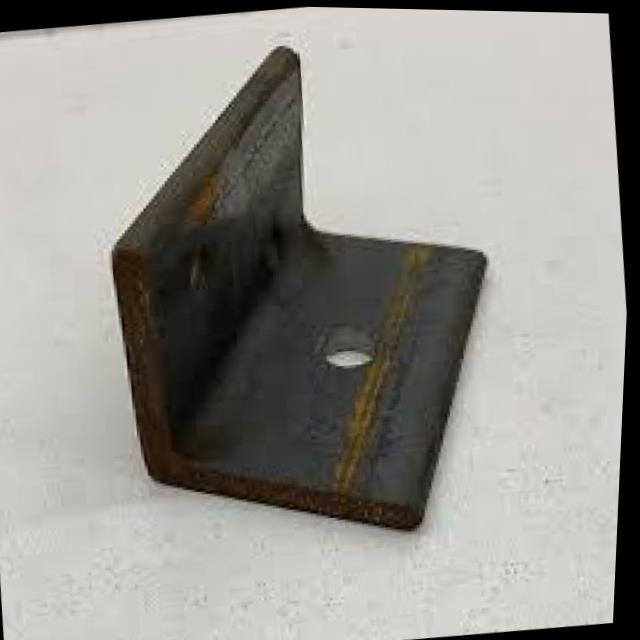holes: (314, 311, 389, 376)
